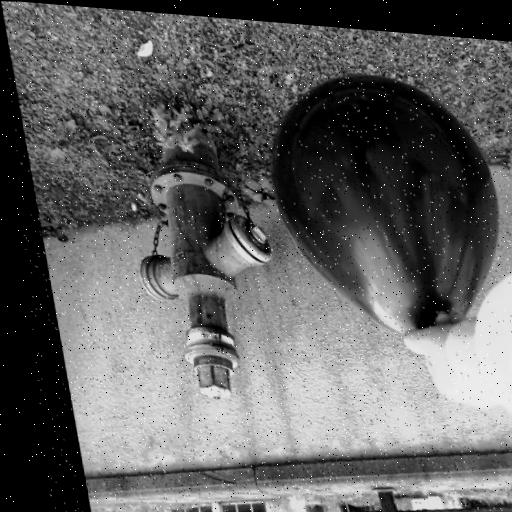balloon: (248, 60, 512, 353)
